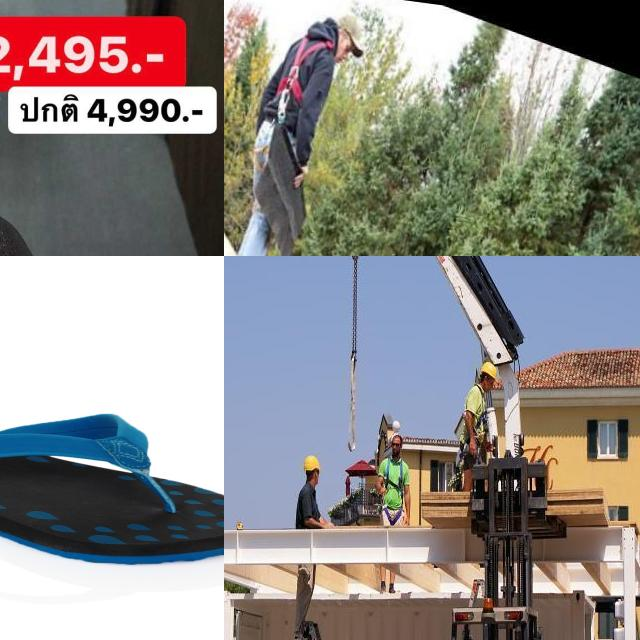Harness: (277, 36, 332, 102), (376, 454, 416, 528)
Sandals: (0, 20, 179, 256), (0, 395, 224, 566)
